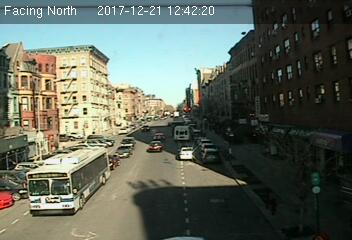bus: (26, 146, 110, 217)
car: (201, 148, 222, 162), (178, 147, 196, 160), (107, 154, 120, 170), (115, 146, 133, 157), (147, 140, 162, 152)
truck: (174, 124, 189, 141)
